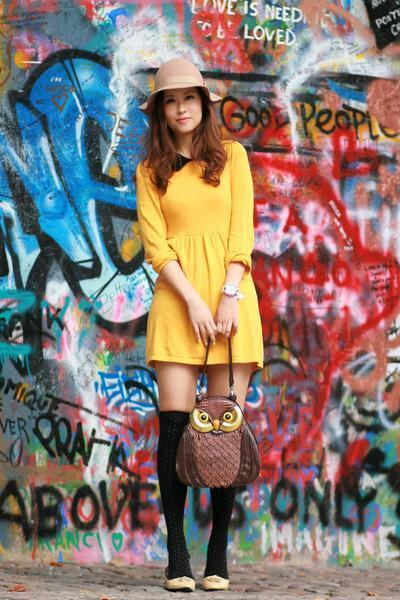bag: (176, 380, 265, 491)
dress: (108, 140, 263, 367)
hat: (132, 42, 229, 108)
